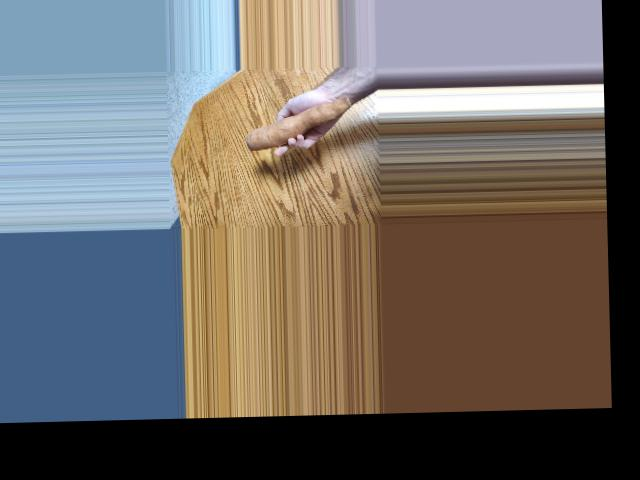sweet_potato: (248, 95, 352, 143)
